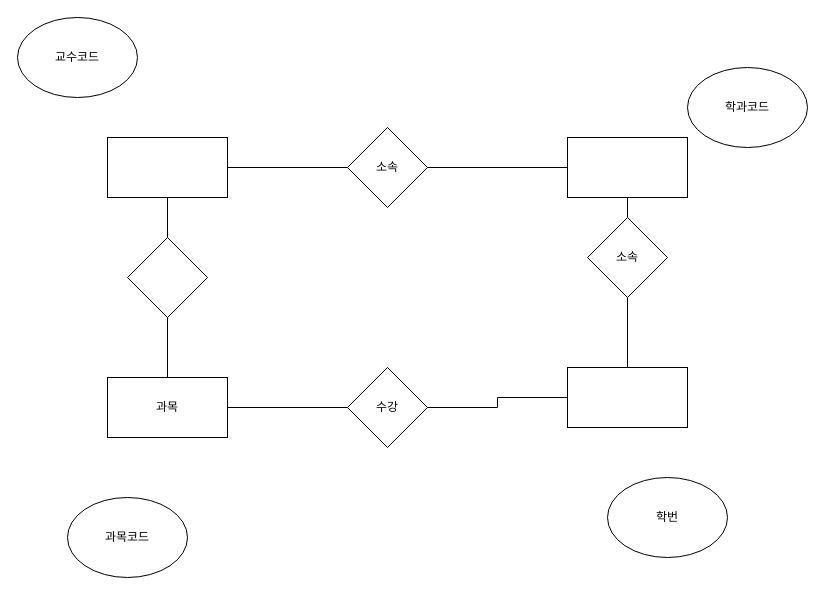
This 825x595 diagram has some shape labels left out. The shapes that lost their labels are listed below. From the top down, each one's box as (x1, y1, x2, y2) in pixels, then its label:
(106, 136, 228, 198): 교수
(566, 136, 688, 198): 학과
(126, 236, 208, 318): 강의
(566, 366, 688, 428): 학생
